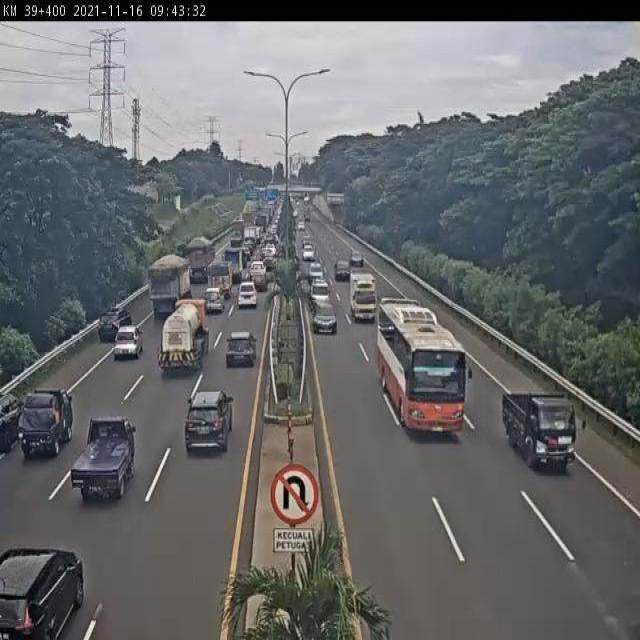big bus: (378, 299, 475, 440)
car: (503, 392, 587, 476), (69, 416, 137, 504), (17, 385, 78, 460), (185, 391, 233, 457), (96, 307, 131, 341), (111, 327, 145, 362), (226, 335, 256, 369), (312, 301, 337, 336), (237, 282, 259, 310), (205, 287, 226, 313)
small truck: (350, 270, 378, 322)
truck-m-: (157, 297, 210, 375), (147, 253, 194, 323)
